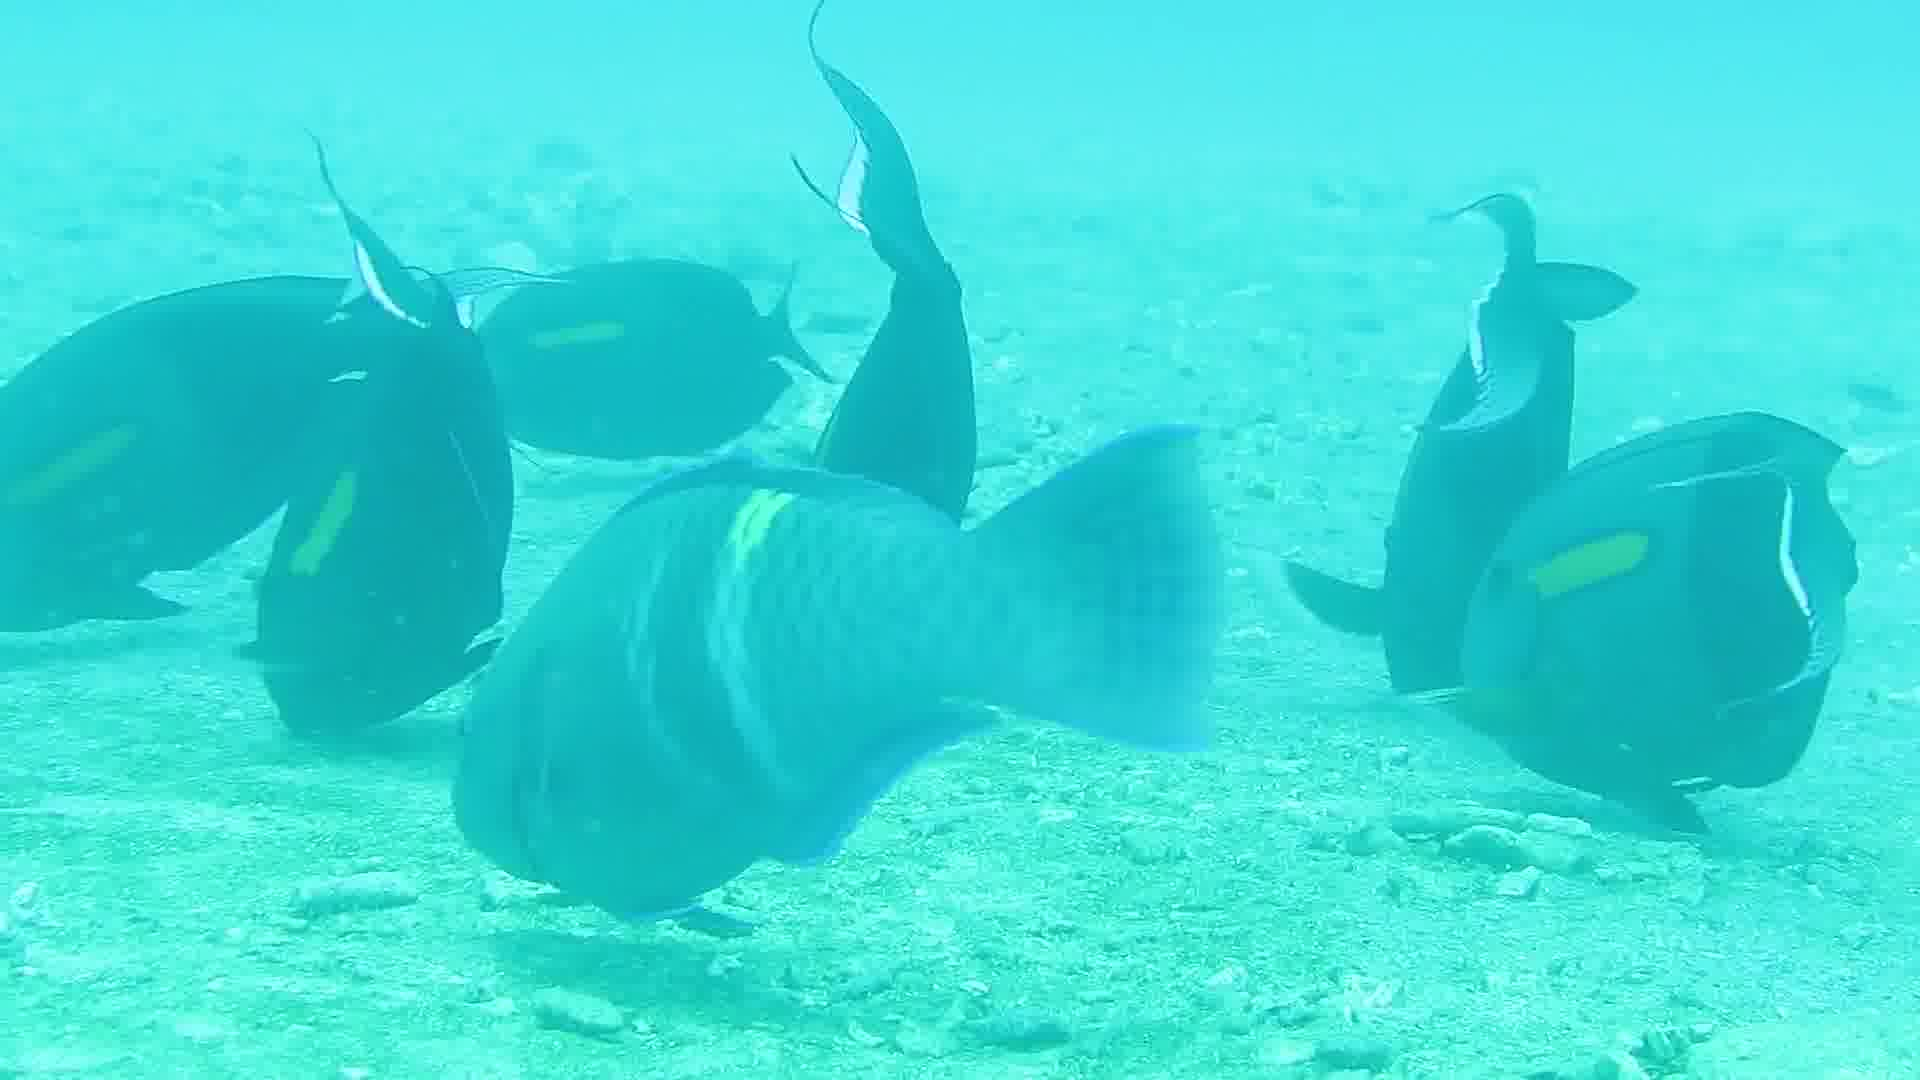Acanthurus olivaceus: (1305, 135, 1890, 923), (472, 473, 1335, 943), (1, 203, 513, 791), (460, 179, 833, 501)
